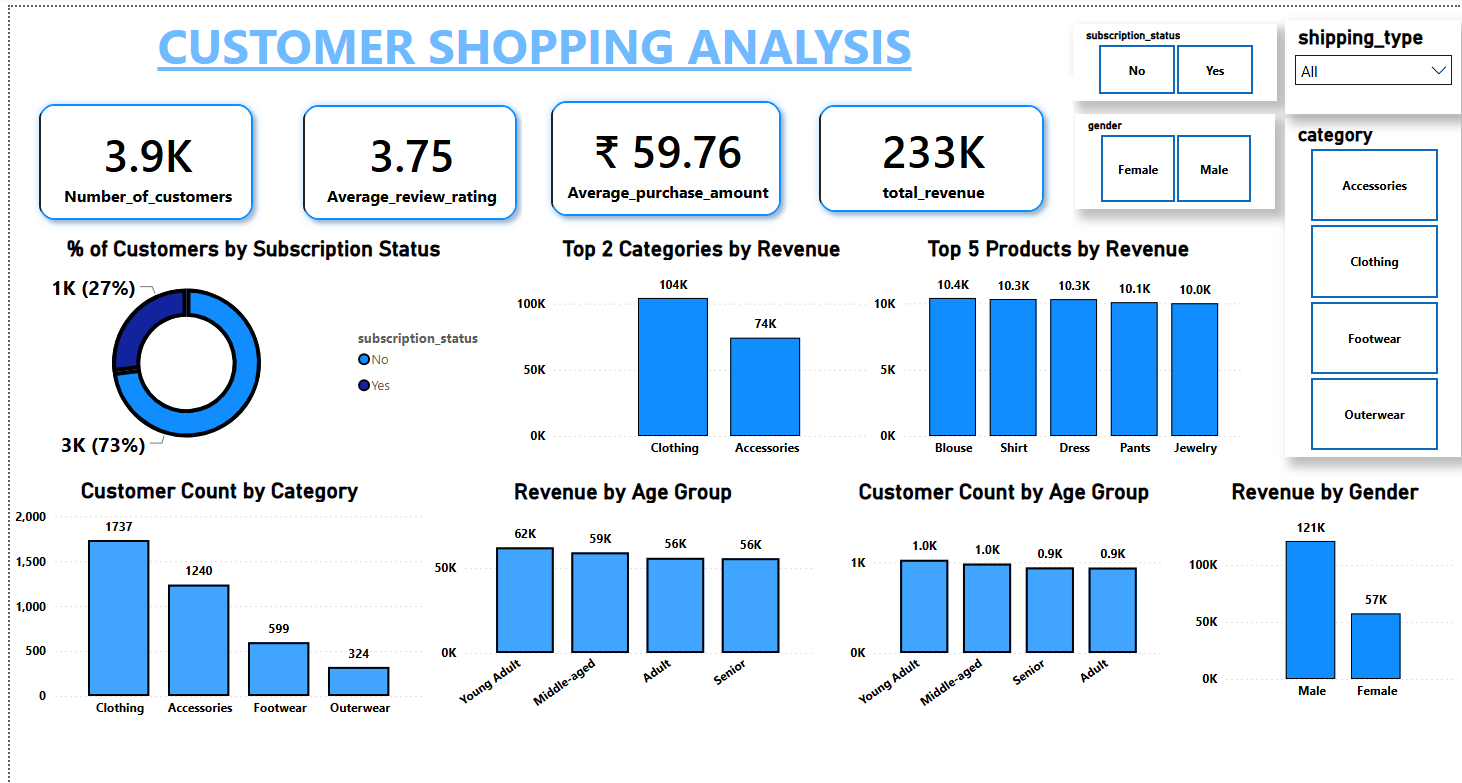

Layout of this report page (visuals, bound fields, positions):
{"tool":"powerbi","page":{"name":"Page 1","canvas":[1600,900],"ordinal":0},"visuals":[{"type":"cardVisual","fields":{"Data":["customers.Number_of_customers"]},"box":[0,68,272,174],"z":0},{"type":"actionButton","box":[0,0,100,40],"z":1000},{"type":"cardVisual","fields":{"Data":["customers.Average_review_rating"]},"box":[264,69,272,173],"z":2000},{"type":"cardVisual","fields":{"Data":["customers.Average_purchase_amount"]},"box":[512,65,288,173],"z":3000},{"type":"textbox","box":[24,0,1069,78],"z":4000},{"type":"donutChart","title":"% of Customers by Subscription Status","fields":{"Y":["customers.Number_of_customers"],"Category":["customers.subscription_status"]},"box":[0,229.4,487,229.4],"z":5000},{"type":"clusteredColumnChart","title":"Top 2 Categories by Revenue","fields":{"Category":["customers.category"],"Y":["Sum(customers.purchase_amount)"]},"box":[501,229,381,230],"z":6000},{"type":"clusteredColumnChart","title":"Customer Count by Category","fields":{"Category":["customers.category"],"Y":["CountNonNull(customers.customer_id)"]},"box":[0,471,419,248],"z":7000},{"type":"slicer","fields":{"Values":["customers.subscription_status"]},"box":[1063,17,204,77],"z":8000},{"type":"slicer","fields":{"Values":["customers.gender"]},"box":[1065,107,200,95],"z":9000},{"type":"slicer","fields":{"Values":["customers.category"]},"box":[1275,111,177,339],"z":10000},{"type":"slicer","fields":{"Values":["customers.shipping_type"]},"box":[1275,13,177,94],"z":11000},{"type":"columnChart","title":"Revenue by Age Group","fields":{"Category":["customers.age_group"],"Y":["Sum(customers.purchase_amount)"]},"box":[419,472,388,247],"z":12000},{"type":"columnChart","title":"Customer Count by Age Group","fields":{"Category":["customers.age_group"],"Y":["CountNonNull(customers.customer_id)"]},"box":[829,472,330,247],"z":13000},{"type":"cardVisual","fields":{"Data":["customers.total_revenue"]},"box":[780,69,283,165],"z":13001},{"type":"clusteredColumnChart","title":"Top 5 Products by Revenue","fields":{"Y":["Sum(customers.purchase_amount)"],"Category":["customers.item_purchased"]},"box":[858,229,381,230],"z":13002},{"type":"clusteredColumnChart","title":"Revenue by Gender","fields":{"Y":["Sum(customers.purchase_amount)"],"Category":["customers.gender"]},"box":[1173,472,284,230],"z":13003}]}

Visuals, with their boxes on the page's 1600x900 design canvas (x1, y1, x2, y2). These are canvas units, not pixel positions in the 1462x783 screenshot, which may show the page scaled, cropped or inside an application window:
cardVisual - customers.Number_of_customers: <region>0, 68, 272, 242</region>
actionButton: <region>0, 0, 100, 40</region>
cardVisual - customers.Average_review_rating: <region>264, 69, 536, 242</region>
cardVisual - customers.Average_purchase_amount: <region>512, 65, 800, 238</region>
textbox: <region>24, 0, 1093, 78</region>
"% of Customers by Subscription Status" donutChart: <region>0, 229, 487, 459</region>
"Top 2 Categories by Revenue" clusteredColumnChart: <region>501, 229, 882, 459</region>
"Customer Count by Category" clusteredColumnChart: <region>0, 471, 419, 719</region>
slicer - customers.subscription_status: <region>1063, 17, 1267, 94</region>
slicer - customers.gender: <region>1065, 107, 1265, 202</region>
slicer - customers.category: <region>1275, 111, 1452, 450</region>
slicer - customers.shipping_type: <region>1275, 13, 1452, 107</region>
"Revenue by Age Group" columnChart: <region>419, 472, 807, 719</region>
"Customer Count by Age Group" columnChart: <region>829, 472, 1159, 719</region>
cardVisual - customers.total_revenue: <region>780, 69, 1063, 234</region>
"Top 5 Products by Revenue" clusteredColumnChart: <region>858, 229, 1239, 459</region>
"Revenue by Gender" clusteredColumnChart: <region>1173, 472, 1457, 702</region>
